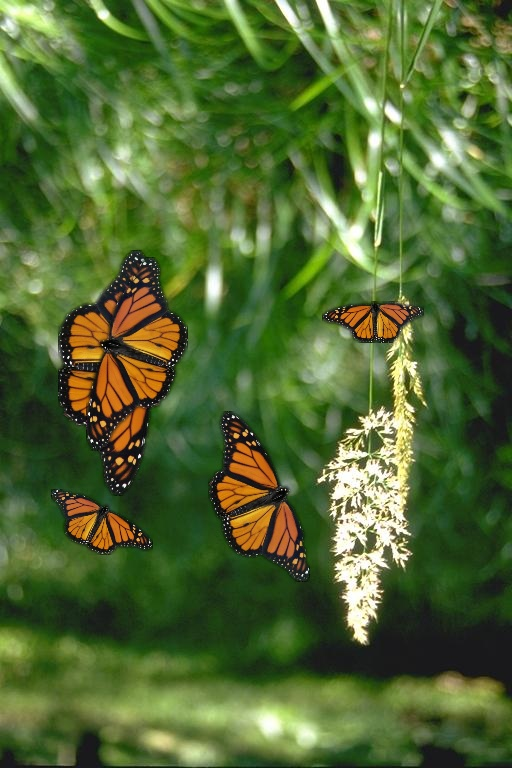danaus_plexippus: (58, 250, 160, 496), (86, 257, 188, 451), (208, 411, 310, 582), (51, 489, 153, 555), (322, 301, 424, 343)
